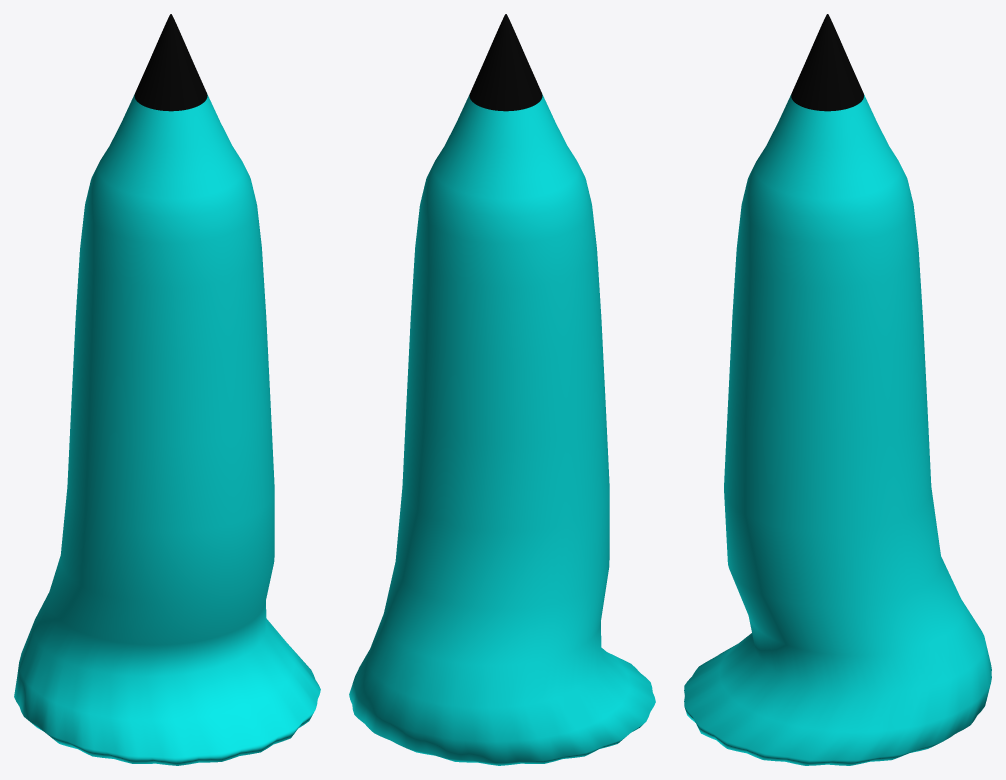
The model's file is turkuaz.fbx.
3 renders of one model, left to right at view 1: azimuth 30°, elevation 25°; view 2: azimuth 150°, elevation 25°; view 3: azimuth 270°, elevation 25°, orthographic.
Visible parts, largest first — view 1: pCylinder1; view 2: pCylinder1; view 3: pCylinder1.
Boxes of the visible parts, left/top/right/bottom form: pCylinder1: left=14, top=14, right=320, bottom=765; pCylinder1: left=349, top=14, right=655, bottom=765; pCylinder1: left=684, top=14, right=991, bottom=765.
Bounding box in the file's own units: 3.49 × 8.8 × 3.53.
